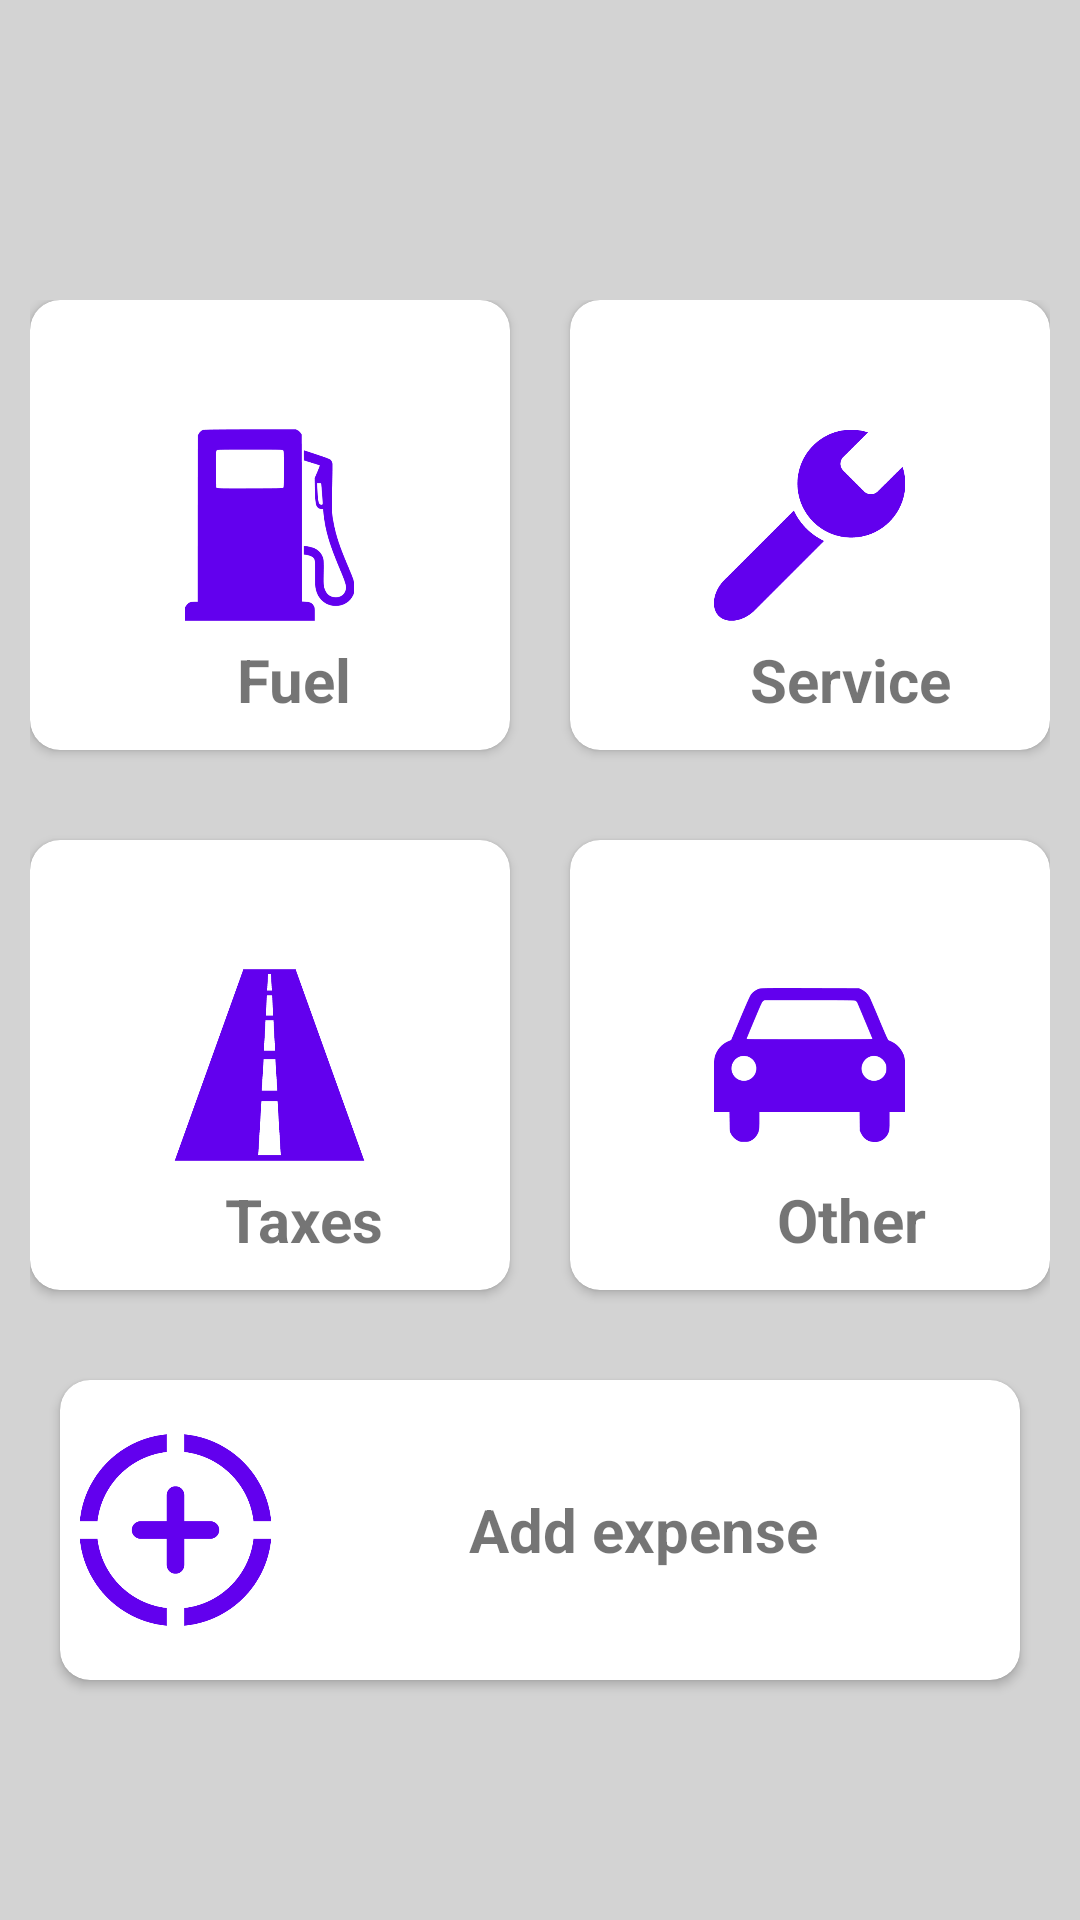

Icon click points for this 1080x1920 phone screenshot, format [x,y]:
gas pump: [269,525]
